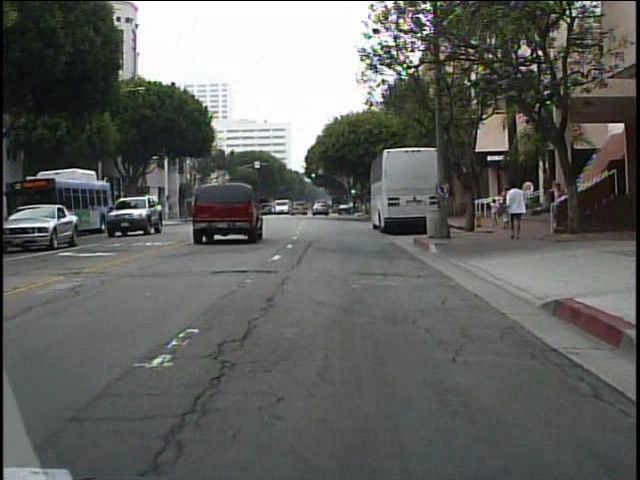person: (504, 177, 530, 241), (549, 179, 567, 235), (487, 196, 501, 230)
